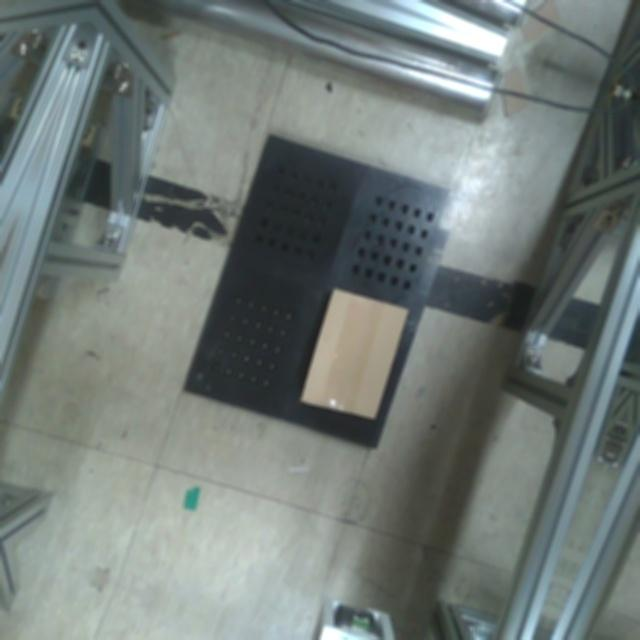box: (287, 278, 420, 432)
pallet: (166, 117, 477, 468)
